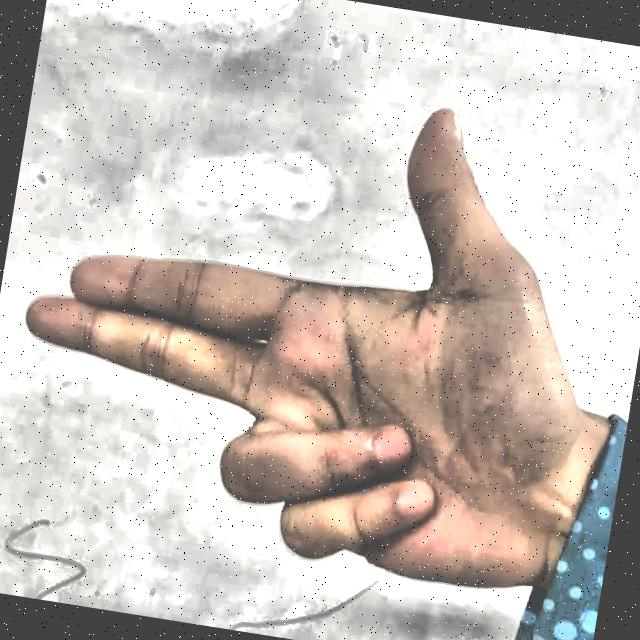Jha: (0, 0, 635, 640)
